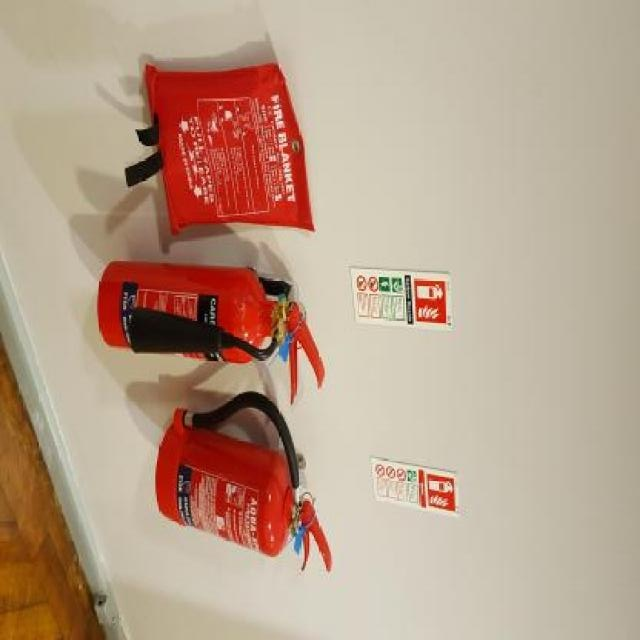fire extinguisher: (99, 255, 326, 401), (156, 393, 333, 567)
